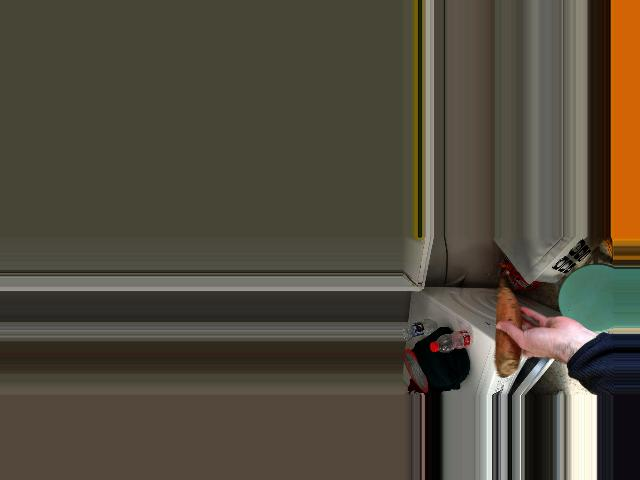sweet_potato: (496, 283, 521, 368)
